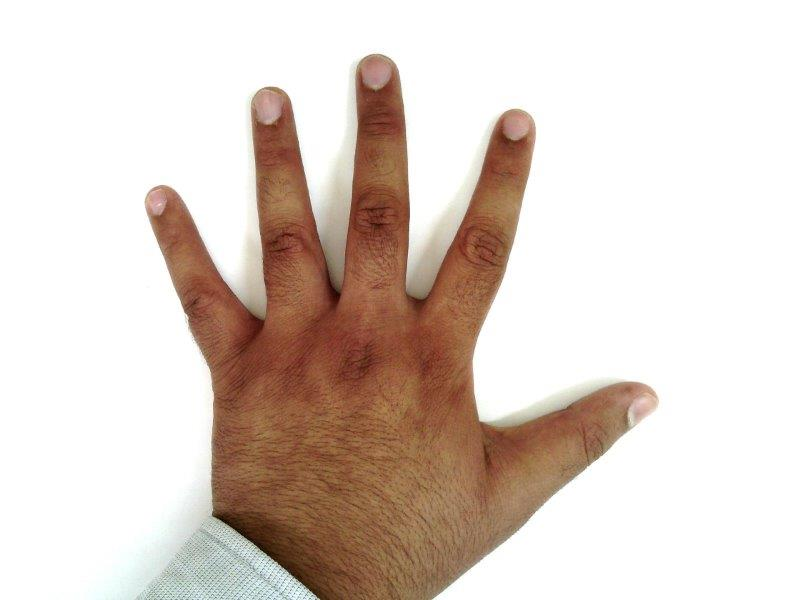hand: (143, 55, 657, 555)
